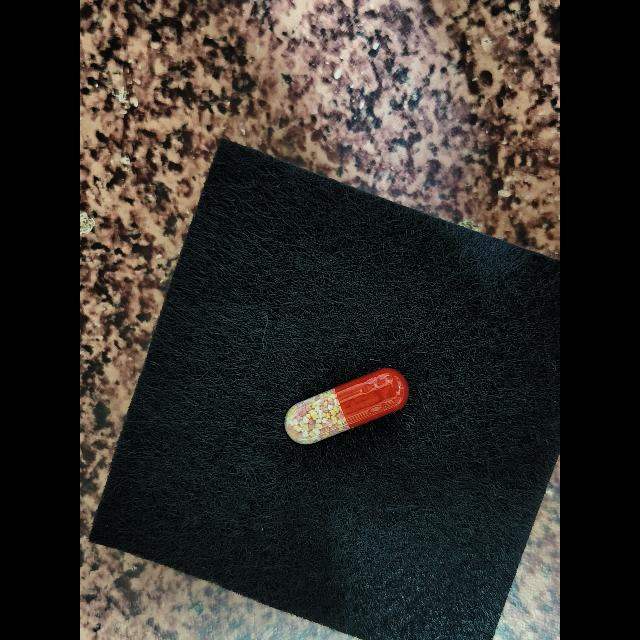Intact Capsule: (284, 368, 409, 444)
